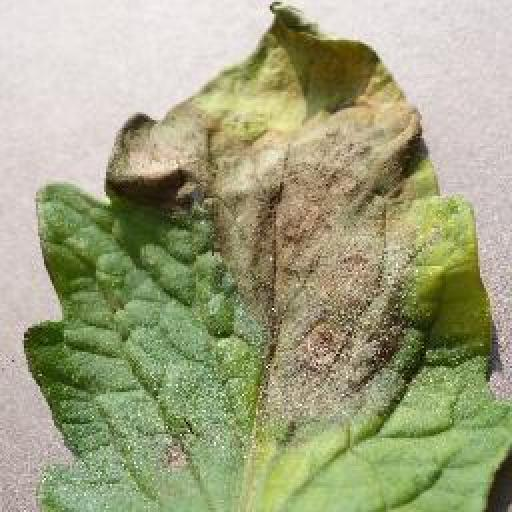Late Blight: (22, 4, 512, 512)
